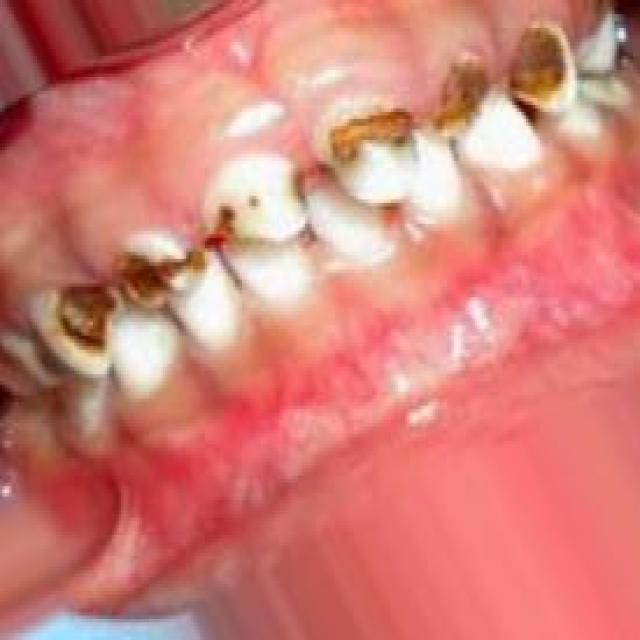caries: (323, 85, 415, 174), (509, 14, 580, 117), (48, 266, 120, 366), (425, 39, 493, 142), (119, 225, 196, 312), (206, 197, 254, 250)
